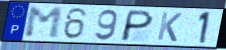1: (196, 11, 213, 46)
6: (62, 7, 89, 41)
9: (93, 8, 119, 41)
K: (155, 11, 184, 43)
M: (24, 7, 65, 40)
P: (118, 9, 156, 43)
